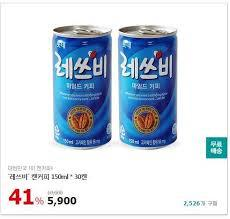letsbe: (51, 26, 114, 152), (120, 25, 181, 149)
